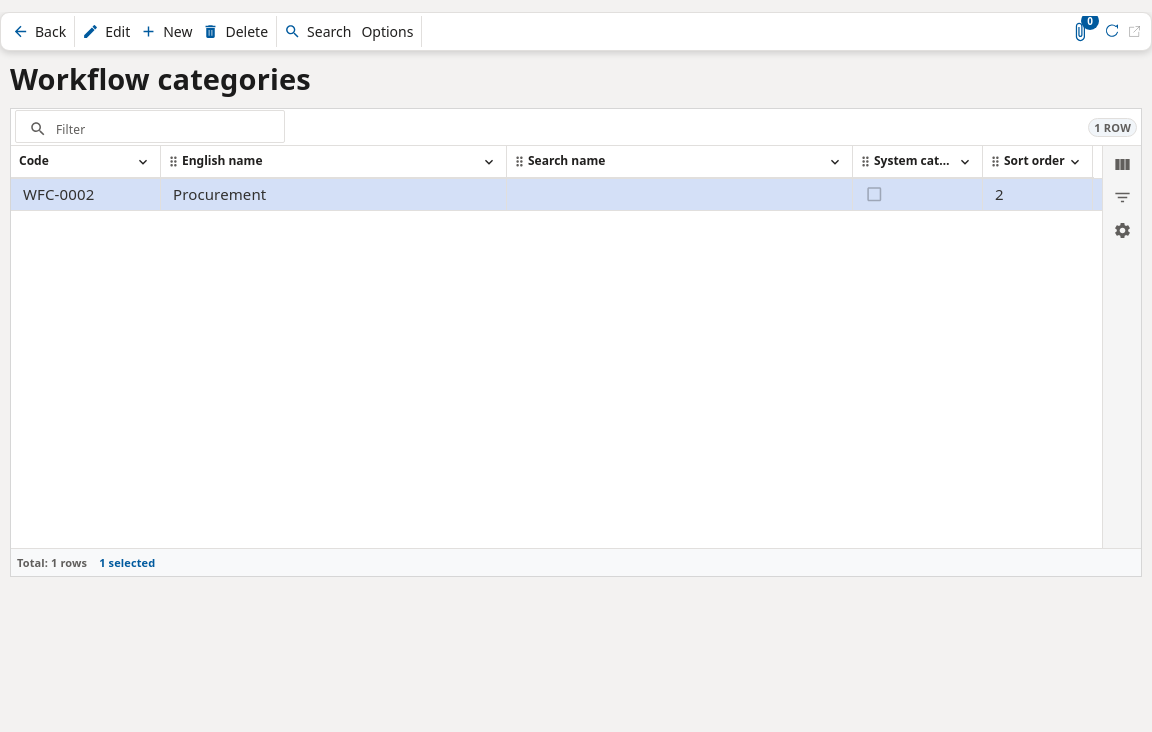
Test: WFCategoryPage › uses the exchange-rate-types simple-list lifecycle with backend-shaped rows
Expected: the heading "Workflow categories" is shown, [10,59,311,98]
Expected: the text "Procurement" is shown, [173,184,266,204]
Step 1. Click the button "Edit" → (106, 32), box [77,16,135,47]
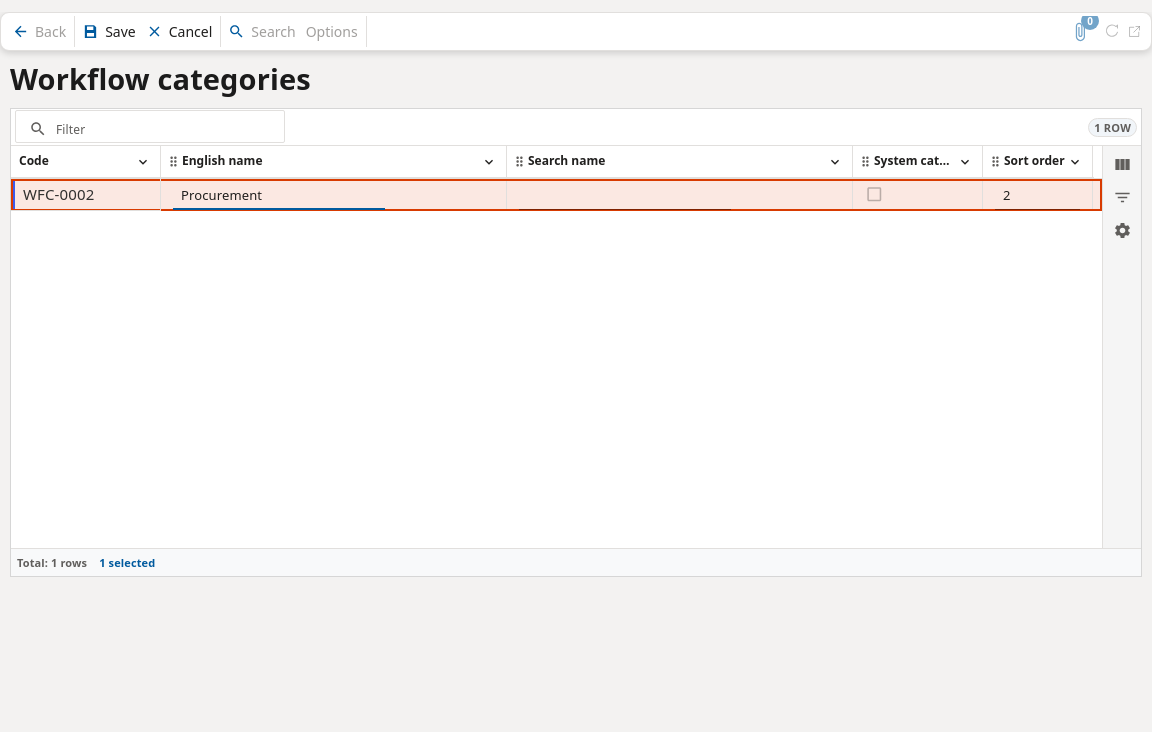
Now the button "Save" is shown, box [77,16,141,47]
Now the button "Cancel" is shown, box [141,16,217,47]
